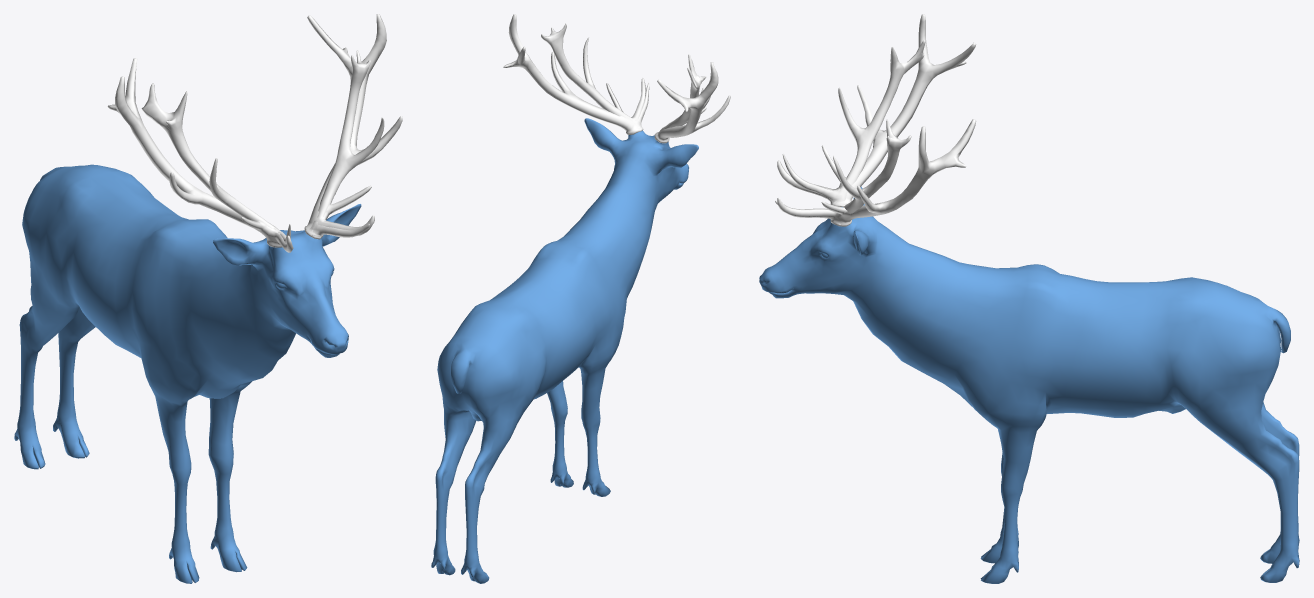
The model's file is hej.glb.
3 renders of one model, left to right at view 1: azimuth 30°, elevation 25°; view 2: azimuth 150°, elevation 25°; view 3: azimuth 270°, elevation 25°, orthographic. The views are drawn at different scales.
Visible parts, largest first — view 1: RedDeer, Antlers_2, Antlers_1; view 2: RedDeer, Antlers_2, Antlers_1; view 3: RedDeer, Antlers_2, Antlers_1.
Part boxes in pixels (x1,y1,x2,y2): RedDeer: (14,164,361,583); Antlers_2: (107,14,402,252); Antlers_1: (141,50,384,243); RedDeer: (431,118,698,583); Antlers_2: (503,14,730,143); Antlers_1: (541,23,710,140); RedDeer: (759,186,1299,583); Antlers_2: (777,14,976,226); Antlers_1: (775,40,925,226).
Size of what is drawn, in the model's own units: 1.21 by 2.38 by 2.33.
